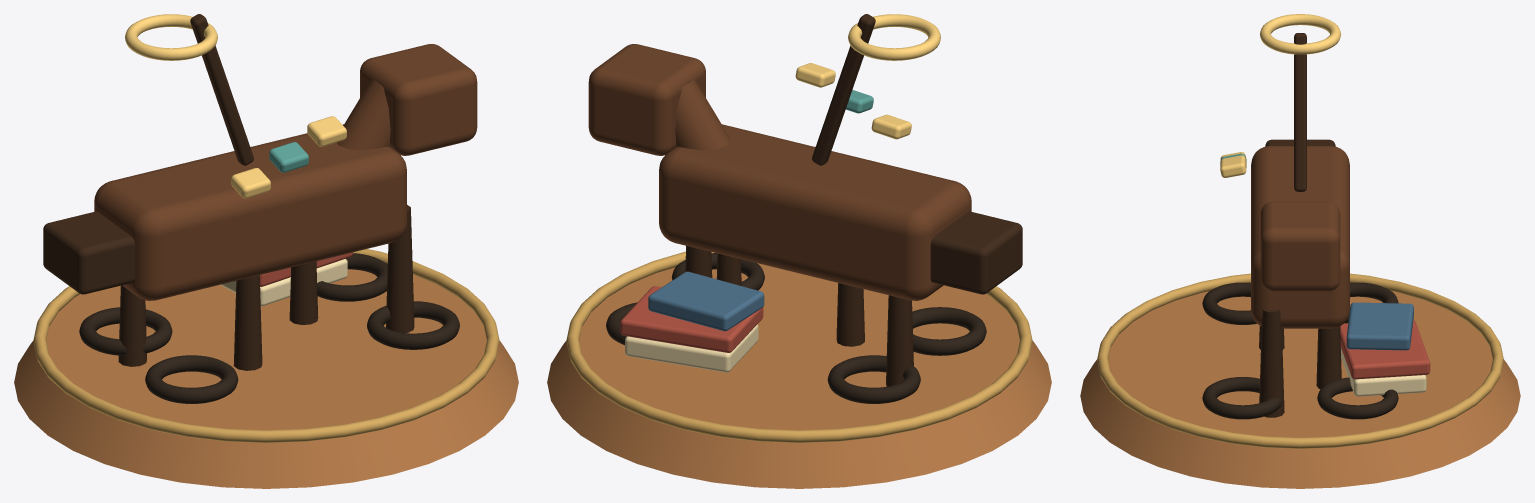
File: trojan-program.glb
3 renders of one model, left to right at view 1: azimuth 30°, elevation 25°; view 2: azimuth 150°, elevation 25°; view 3: azimuth 270°, elevation 25°, orthographic. The views are drawn at different scales.
Parts seen in each view (by area): view 1: asset-plinth, trojan-body, trojan-wheel (×4), plinth-rim, trojan-head, trojan-leg (×4), hidden-hatch, code-block (×3), trojan-neck, program-pole, loop-trigger, book-pages (+1 smaller); view 2: asset-plinth, trojan-body, plinth-rim, trojan-head, trojan-wheel (×4), hidden-hatch, trojan-leg (×4), book-cover-small, book-cover, book-pages, trojan-neck, program-pole (+2 smaller); view 3: asset-plinth, trojan-body, plinth-rim, trojan-head, trojan-wheel (×4), trojan-leg (×2), book-cover-small, book-cover, program-pole, loop-trigger, book-pages, code-block.
Part boxes in pixels (x1,y1,x2,y2): asset-plinth: (14,269,518,488); trojan-body: (94,124,406,300); trojan-wheel (×4): (79,253,459,403); plinth-rim: (33,249,499,442); trojan-head: (360,44,477,155); trojan-leg (×4): (118,205,414,370); hidden-hatch: (43,211,135,294); code-block (×3): (231,116,346,198); trojan-neck: (337,79,390,150); program-pole: (190,14,253,165); loop-trigger: (125,14,217,60); book-pages: (220,259,347,306); asset-plinth: (547,263,1051,488); trojan-body: (659,124,971,300); plinth-rim: (566,251,1032,442); trojan-head: (588,44,705,155); trojan-wheel (×4): (606,253,986,403); hidden-hatch: (930,211,1022,294); trojan-leg (×4): (685,246,913,386); book-cover-small: (648,271,764,331); book-cover: (620,286,763,352); book-pages: (625,324,758,372); trojan-neck: (675,79,730,150); program-pole: (812,14,875,165); asset-plinth: (1080,291,1520,488); trojan-body: (1251,146,1349,328); plinth-rim: (1097,273,1503,448); trojan-head: (1260,201,1340,291); trojan-wheel (×4): (1202,282,1398,419); trojan-leg (×2): (1259,309,1341,417); book-cover-small: (1346,302,1413,350); book-cover: (1340,319,1430,379); program-pole: (1294,33,1306,191); loop-trigger: (1260,14,1340,54); book-pages: (1340,347,1426,396); code-block: (1220,155,1246,177).
Bounding box in the file's own units: 2.76 × 2.31 × 2.76.
